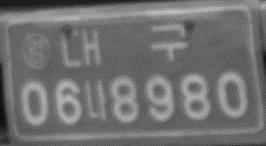0: (217, 71, 249, 119), (20, 79, 49, 129)
6: (54, 77, 83, 126)
8: (178, 73, 212, 122), (110, 73, 140, 124)
9: (145, 74, 176, 123)
나: (84, 79, 109, 121)
대구_D: (58, 21, 189, 71)
영: (20, 32, 55, 72)
